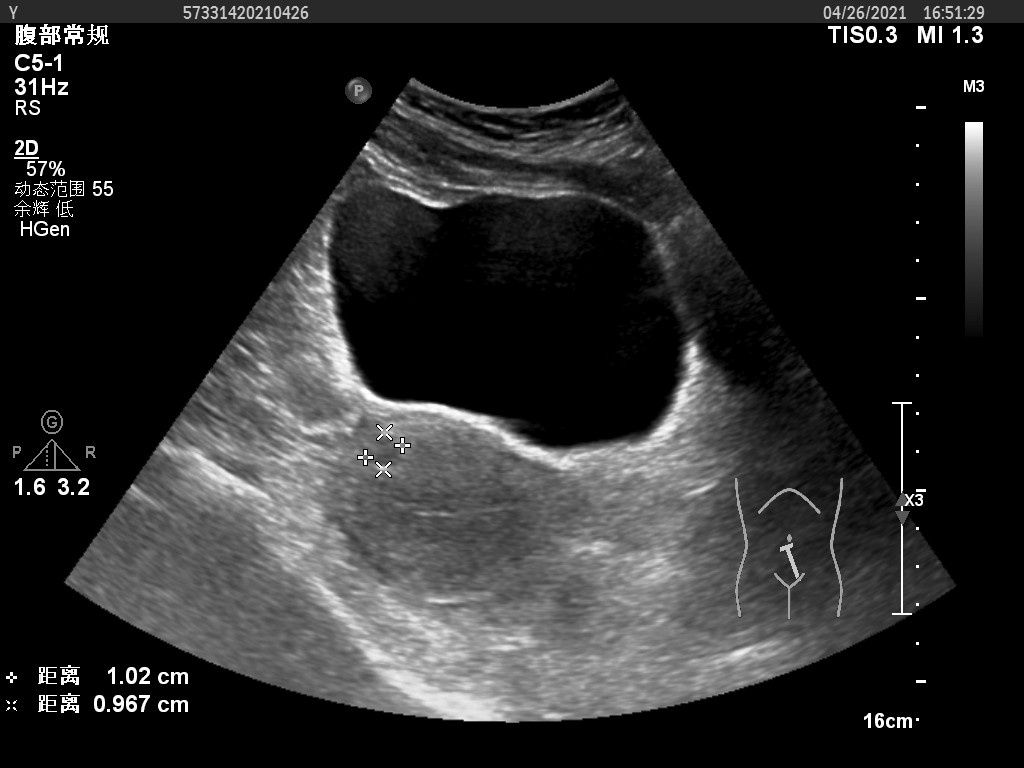肌瘤: (368, 436, 397, 465)
